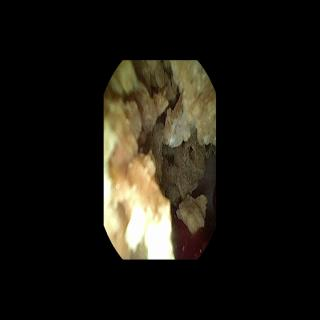stone: (106, 63, 214, 257), (178, 194, 207, 233)
